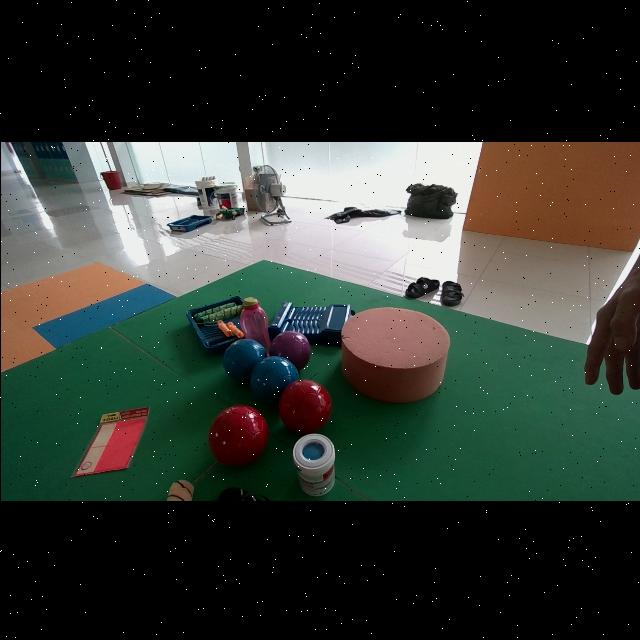B: (249, 355, 299, 402), (221, 337, 264, 380)
P: (268, 331, 310, 369)
R: (208, 403, 266, 465), (277, 378, 330, 432)
